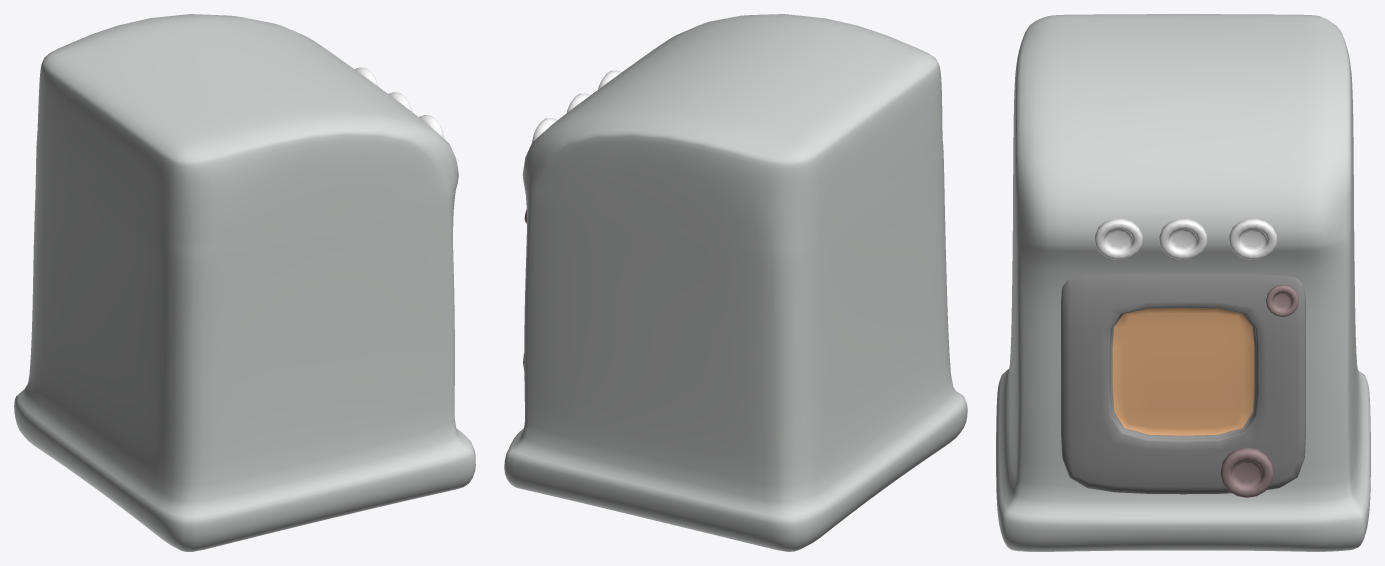
Rendered from Machine_01.fbx.
The picture shows the model from 3 angles, left to right: view 1: azimuth 30°, elevation 25°; view 2: azimuth 150°, elevation 25°; view 3: azimuth 270°, elevation 25°; orthographic projection. The views are drawn at different scales.
Parts seen in each view (by area): view 1: Cube_262.001; view 2: Cube_262.001; view 3: Cube_262.001.
Boxes of the visible parts, x1=… form: Cube_262.001: x1=14, y1=14, x2=475, y2=551; Cube_262.001: x1=504, y1=14, x2=967, y2=551; Cube_262.001: x1=996, y1=14, x2=1370, y2=551.
Bounding box in the file's own units: 88.03 × 102 × 84.57.
